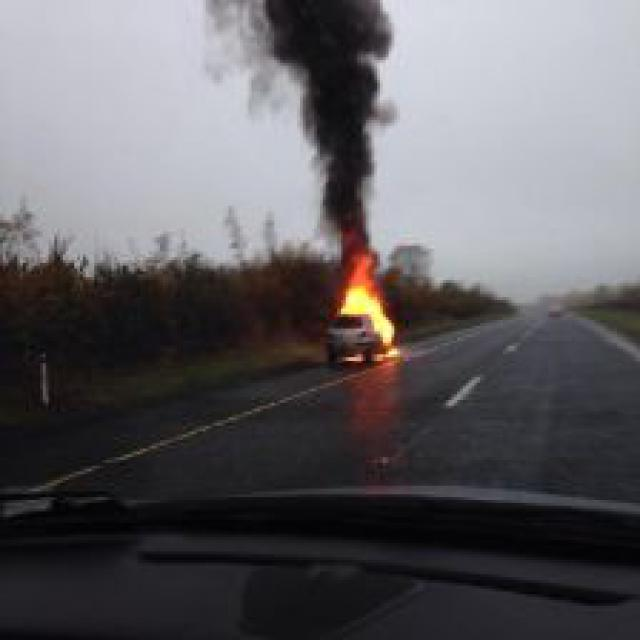fire: (329, 223, 400, 368)
